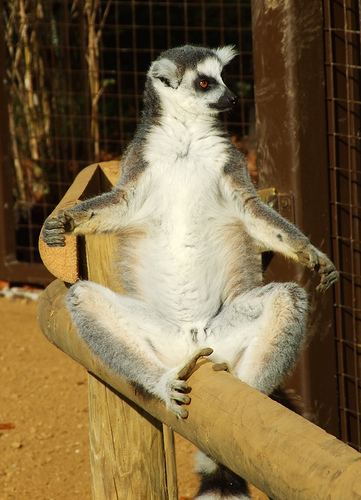cat: (40, 40, 342, 498)
